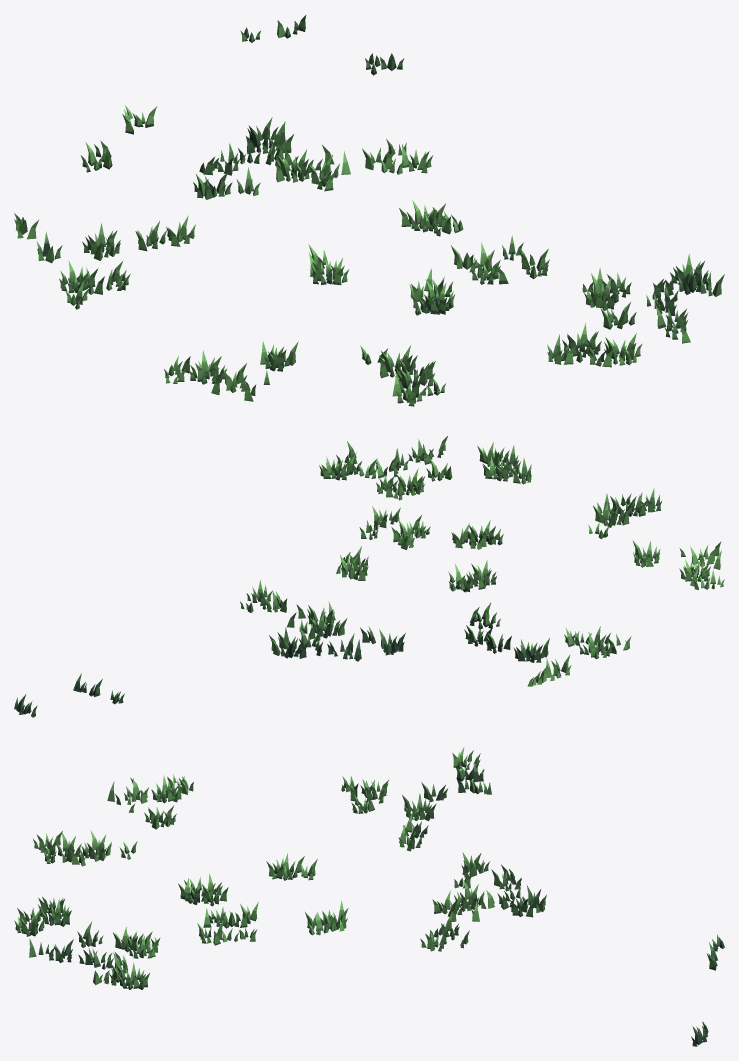
File: Plant_02.FBX
3 renders of one model, top to bottom at view 1: azimuth 30°, elevation 25°; view 2: azimuth 150°, elevation 25°; view 3: azimuth 270°, elevation 25°, orthographic. The views are drawn at different scales.
Parts seen in each view (by area): view 1: Plant_02; view 2: Plant_02; view 3: Plant_02.
Part boxes in pixels (x1=…): Plant_02: x1=14, y1=15, x2=724, y2=406; Plant_02: x1=14, y1=436, x2=724, y2=717; Plant_02: x1=14, y1=747, x2=724, y2=1046.
Size of the model in its own units: 19.87 by 5.76 by 26.83.
